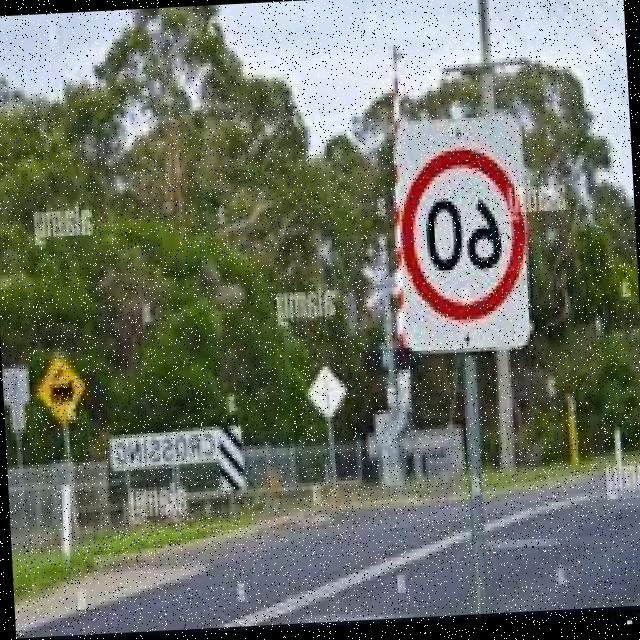speed_limit_60: (390, 142, 528, 328)
